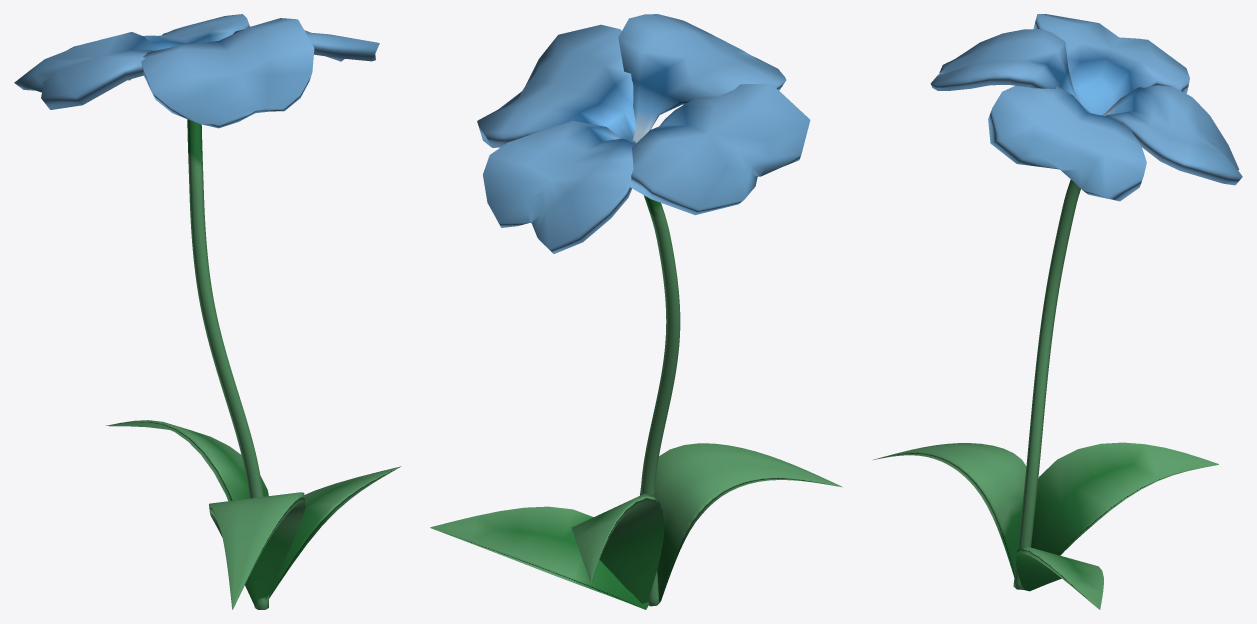
Rendered from flower02.obj.
3 renders of one model, left to right at view 1: azimuth 30°, elevation 25°; view 2: azimuth 150°, elevation 25°; view 3: azimuth 270°, elevation 25°, orthographic. The views are drawn at different scales.
Visible parts, largest first — view 1: Tube_2; view 2: Tube_2; view 3: Tube_2.
Part boxes in pixels (x1,y1,x2,y2): Tube_2: (14, 14, 401, 609); Tube_2: (430, 14, 842, 609); Tube_2: (872, 14, 1242, 609).
Bounding box in the file's own units: 1.37 × 2.09 × 1.32.
Materials: 1 (1 with a texture image).
